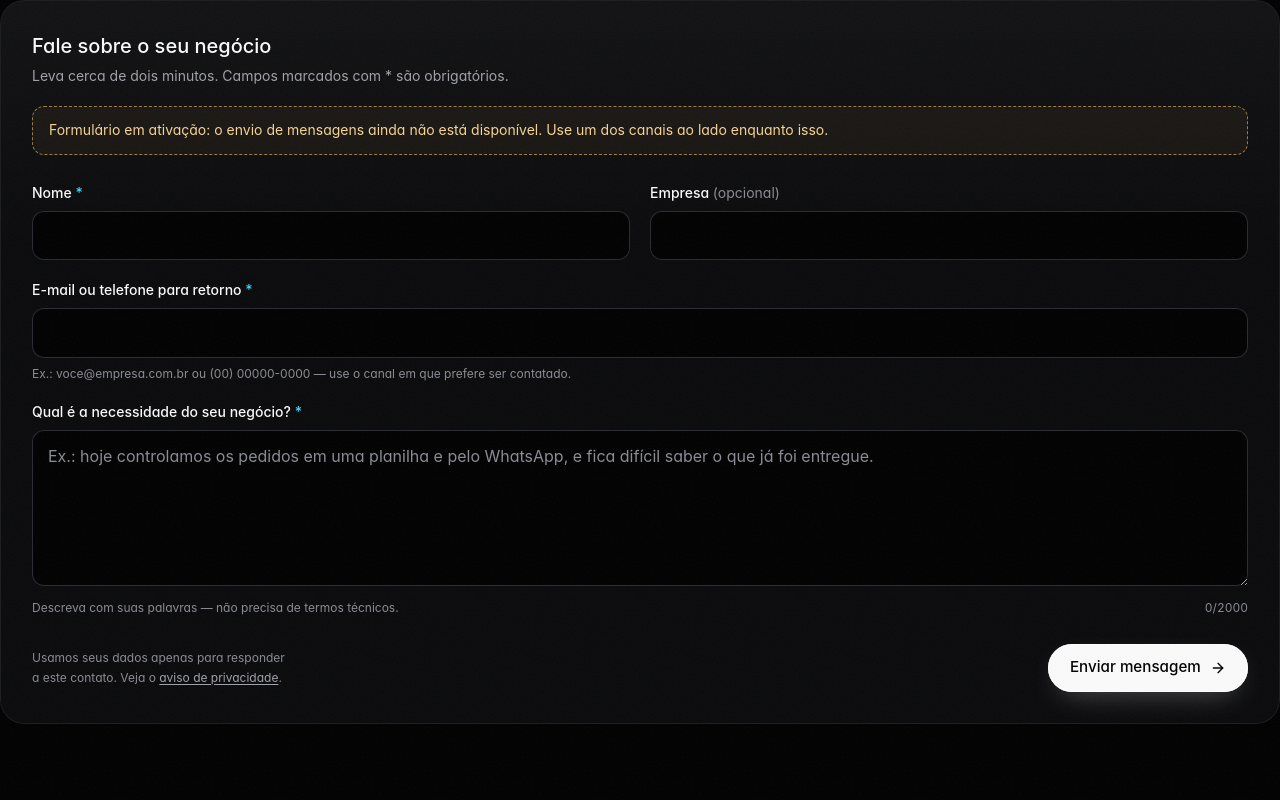
Test: ContactForm › não finge envio quando o serviço não está configurado
Expected: the text "ainda não está disponível" is shown, [49,121,542,138]
Step 1. Type "Maria Souza" into the field labelled "Nome *" → (331, 236), box [32,211,630,260]
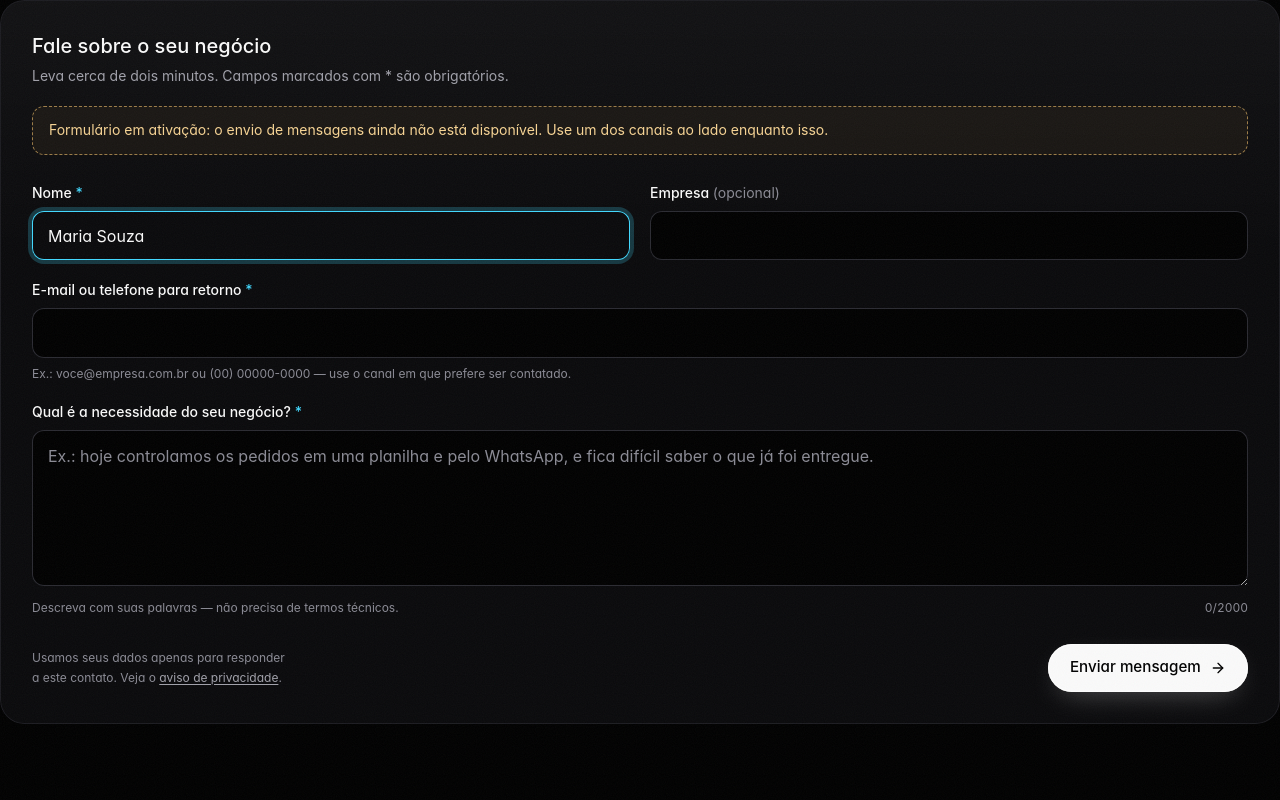
Step 2. Type "maria@exemplo.com" into the field labelled "E-mail ou telefone para retorno *" → (640, 333), box [32,308,1248,358]
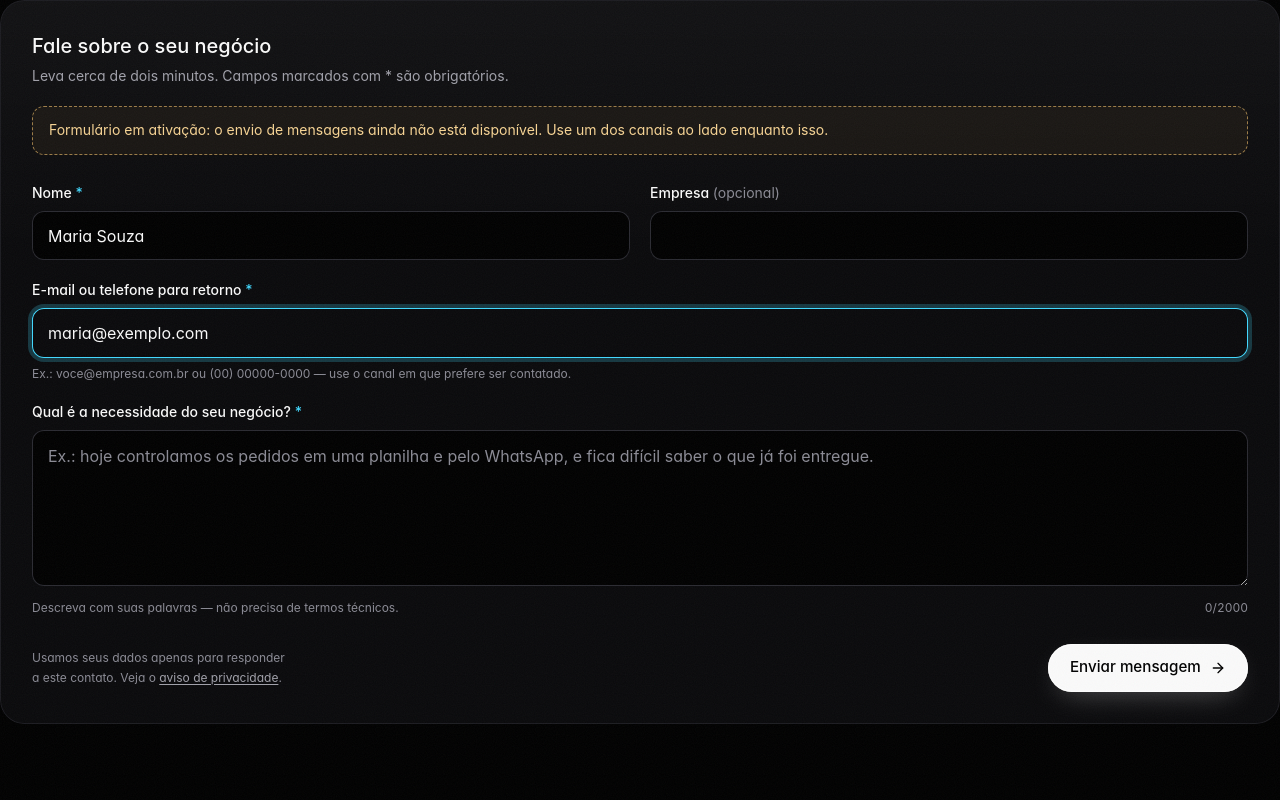
Step 3. Type "Quero organizar os pedidos que hoje ficam no caderno." into the text box labelled "Qual é a necessidade do seu negócio? *" → (640, 508), box [32,430,1248,586]
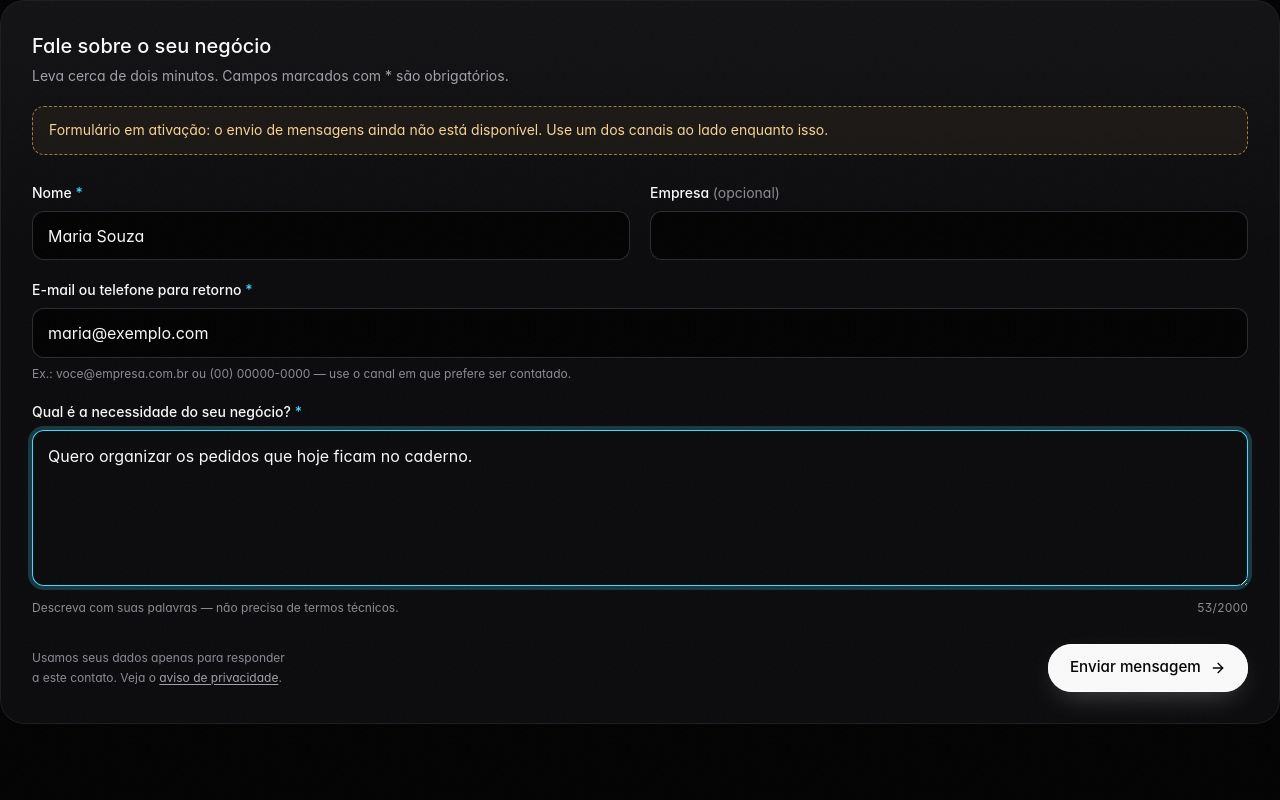
Step 4. Click the button "Enviar mensagem" → (1148, 668), box [1048,644,1248,692]
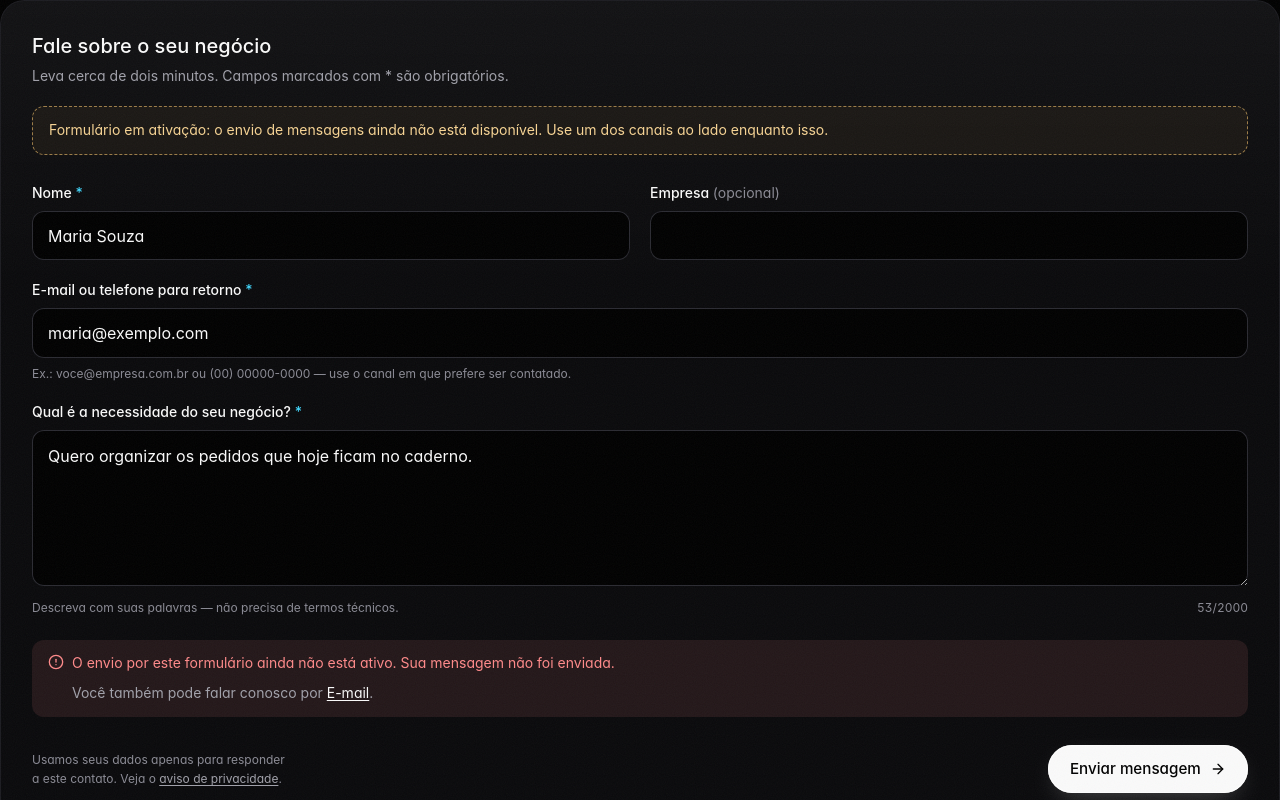
Expected: the message shows "não foi enviada", [72,654,615,670]
